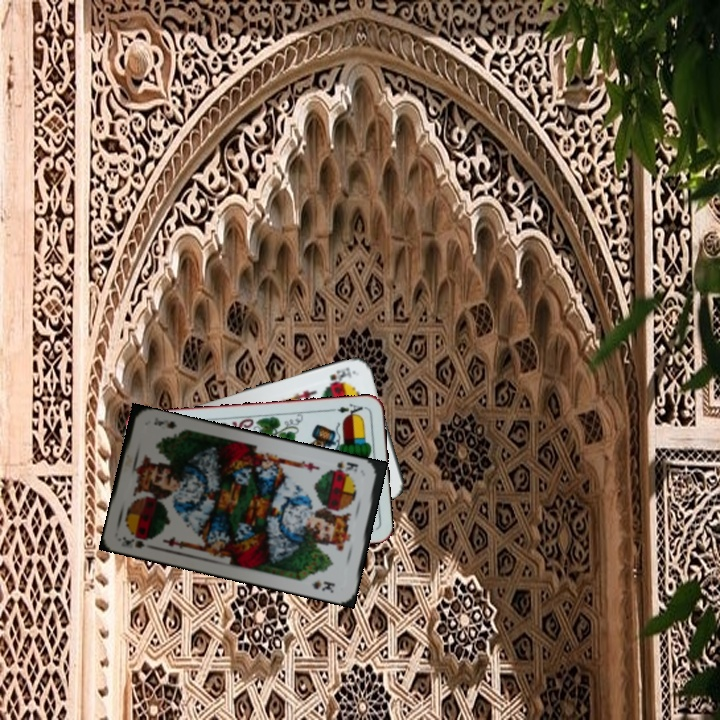EA: (333, 400, 365, 419)
SK: (326, 362, 354, 387), (119, 532, 155, 551), (327, 457, 361, 477)
